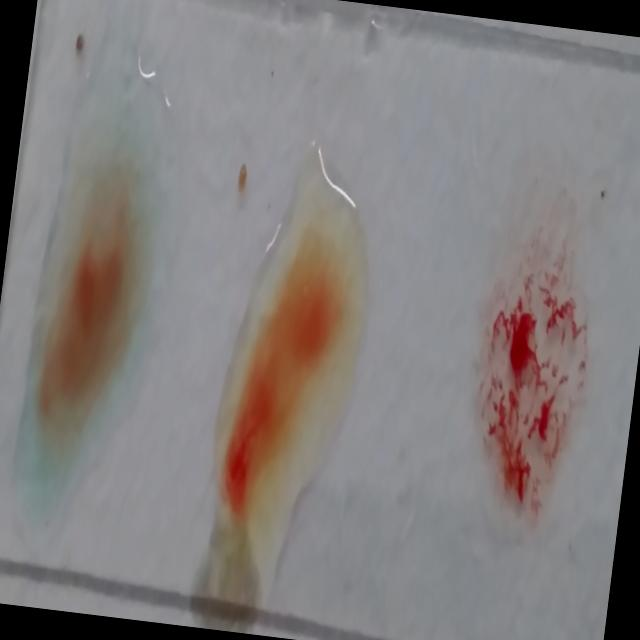D: (454, 221, 604, 543)
